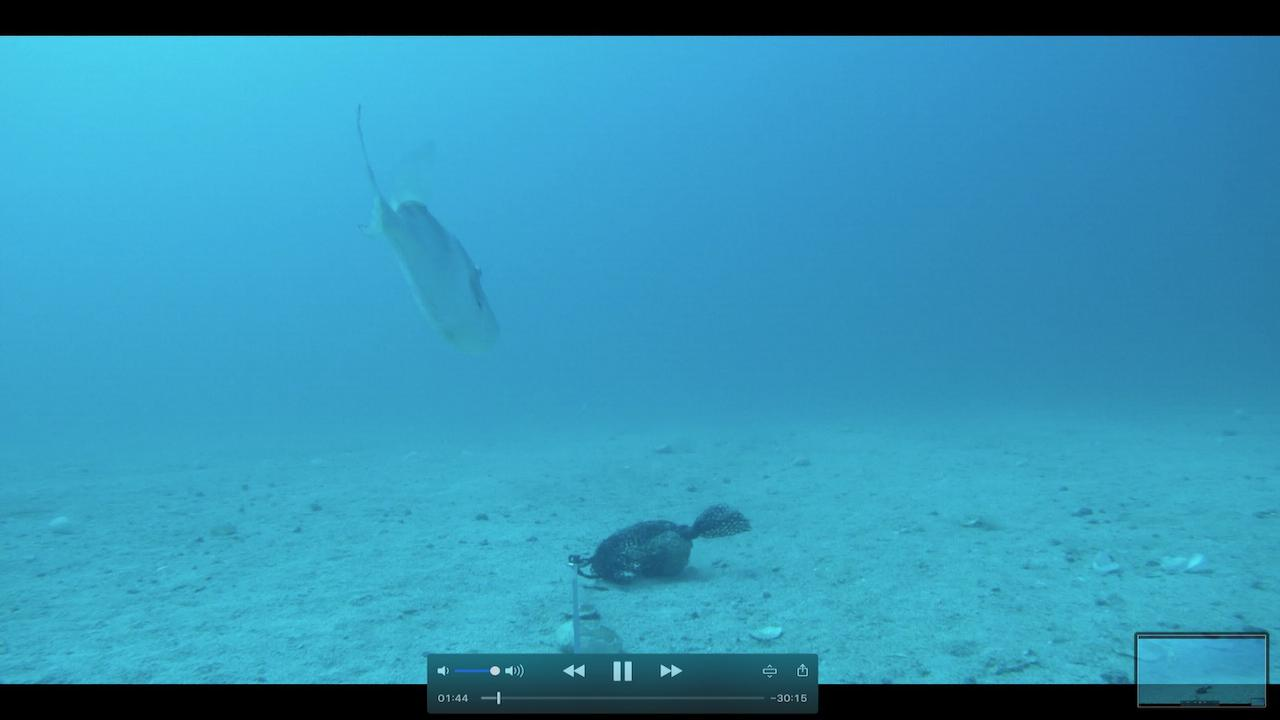balistes: (343, 101, 500, 359)
